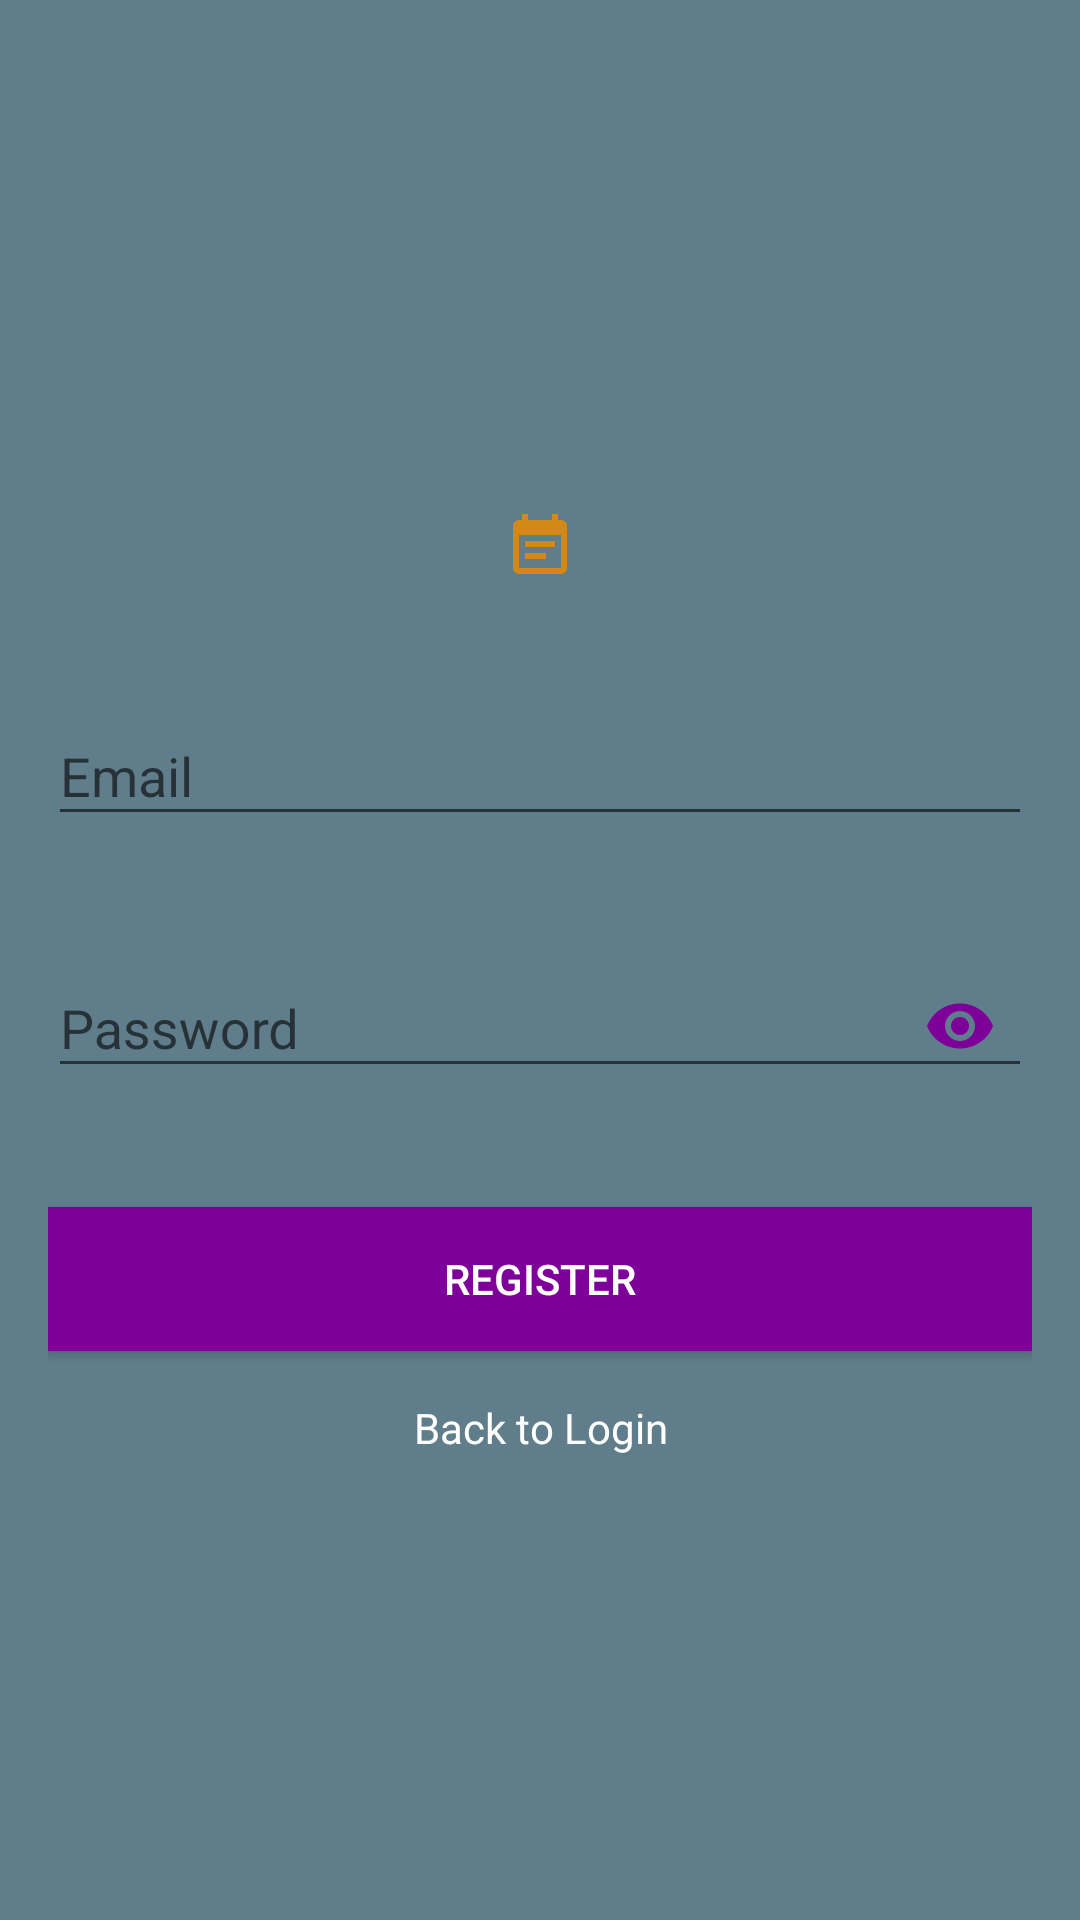

Named icons in this screenshot (1080px×1920px) and their bounding boxes, (x1, y1, x2, y2):
event note: (513, 514, 567, 574)
